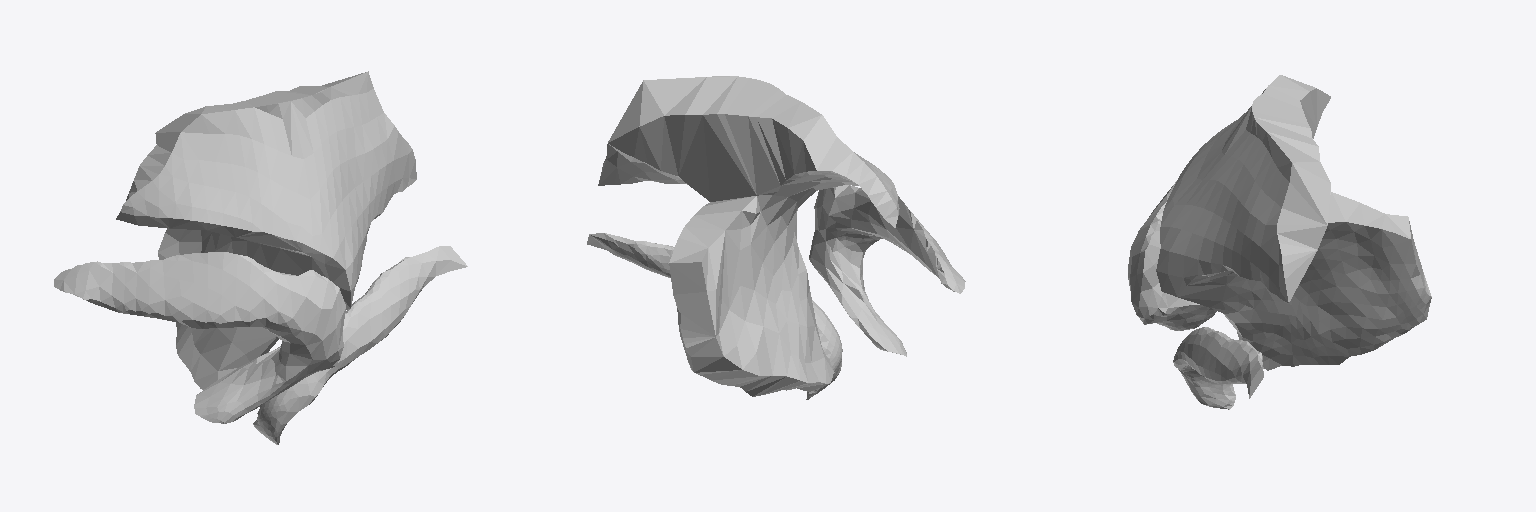
File: cleftNasalCartilage.obj
3 views of the same model, side by side, from view 1: azimuth 30°, elevation 25°; view 2: azimuth 150°, elevation 25°; view 3: azimuth 270°, elevation 25° (orthographic).
Parts seen in each view (by area): view 1: unilatCompleteCleft_deepBed.005; view 2: unilatCompleteCleft_deepBed.005; view 3: unilatCompleteCleft_deepBed.005.
Part boxes in pixels (x1,y1,x2,y2): unilatCompleteCleft_deepBed.005: (54, 71, 467, 444); unilatCompleteCleft_deepBed.005: (587, 76, 965, 399); unilatCompleteCleft_deepBed.005: (1128, 75, 1431, 409).
Size of the model in its own units: 1.56 by 1.21 by 1.04.